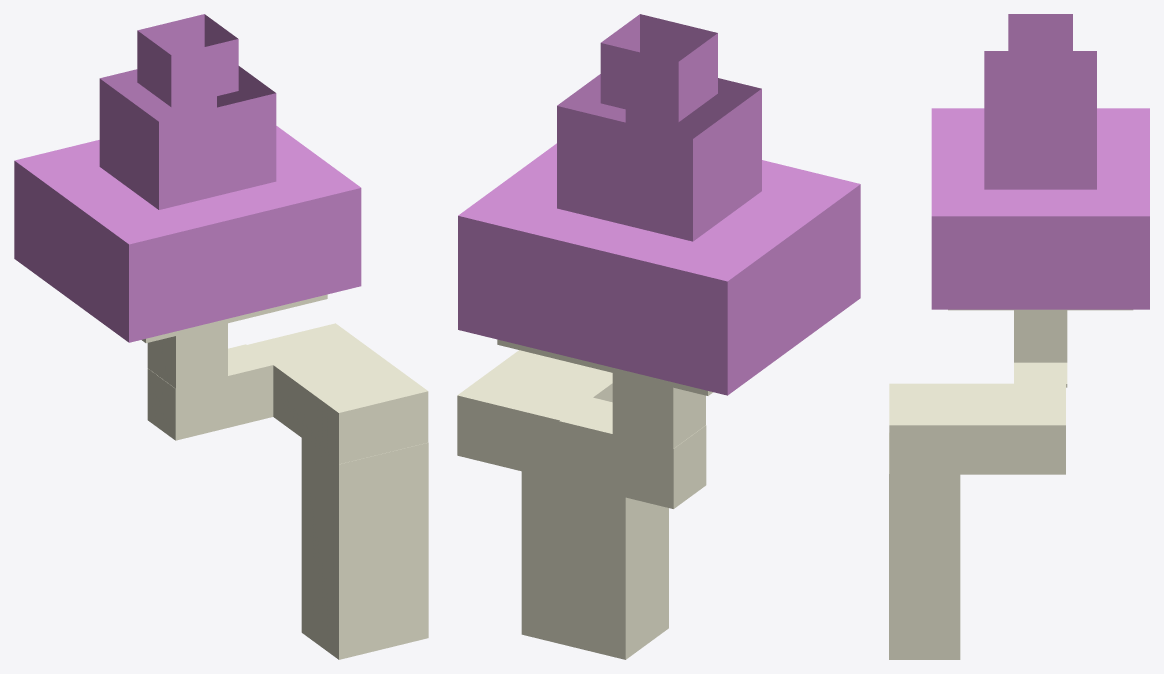
Rendered from FUNGI1.glb.
The picture shows the model from 3 angles, left to right: view 1: azimuth 30°, elevation 25°; view 2: azimuth 150°, elevation 25°; view 3: azimuth 270°, elevation 25°; orthographic projection. The views are drawn at different scales.
Visible parts, largest first — view 1: Cube.019; view 2: Cube.019; view 3: Cube.019.
Boxes of the visible parts, box(x1,y1,x2,y2) form: Cube.019: box(14, 14, 428, 659); Cube.019: box(457, 14, 860, 659); Cube.019: box(889, 14, 1149, 659).
Size of the model in its own units: 0.0279 by 0.0563 by 0.0239.
